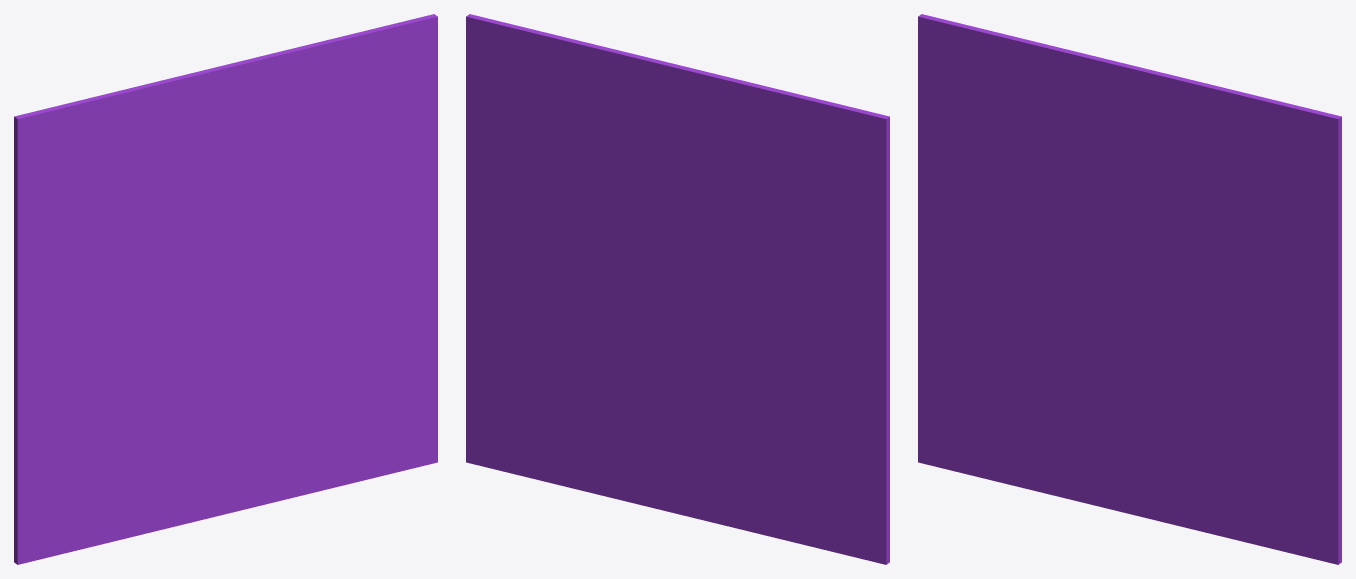
Rendered from Window_36_chunks.fbx.
3 views of the same model, side by side, from view 1: azimuth 30°, elevation 25°; view 2: azimuth 150°, elevation 25°; view 3: azimuth 330°, elevation 25° (orthographic).
Parts seen in each view (by area): view 1: Window_36_0, Window_36_1, Window_36_5, Window_36_4, Window_36_3, Window_36_6; view 2: Window_36_0, Window_36_1, Window_36_5, Window_36_4, Window_36_3, Window_36_6; view 3: Window_36_0, Window_36_1, Window_36_5, Window_36_4, Window_36_3, Window_36_6.
Boxes of the visible parts, left/top/right/bottom form: Window_36_0: left=14, top=33, right=356, bottom=333; Window_36_1: left=14, top=290, right=338, bottom=564; Window_36_5: left=308, top=14, right=437, bottom=268; Window_36_4: left=308, top=262, right=437, bottom=486; Window_36_3: left=228, top=131, right=338, bottom=357; Window_36_6: left=266, top=292, right=319, bottom=432; Window_36_0: left=546, top=34, right=889, bottom=334; Window_36_1: left=566, top=293, right=889, bottom=564; Window_36_5: left=466, top=14, right=595, bottom=272; Window_36_4: left=466, top=268, right=568, bottom=486; Window_36_3: left=566, top=134, right=672, bottom=353; Window_36_6: left=551, top=263, right=640, bottom=481; Window_36_0: left=918, top=14, right=1260, bottom=289; Window_36_1: left=918, top=231, right=1238, bottom=540; Window_36_5: left=1209, top=97, right=1341, bottom=372; Window_36_4: left=1208, top=317, right=1341, bottom=564; Window_36_3: left=1128, top=171, right=1239, bottom=375; Window_36_6: left=1166, top=337, right=1220, bottom=471.
Bounding box in the file's own units: 1826 × 1851 × 27.2.
